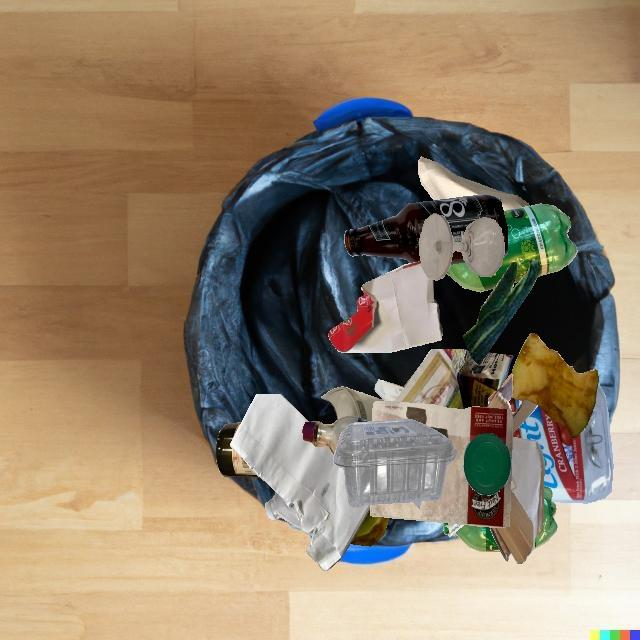biowaste: (512, 333, 599, 438), (463, 260, 541, 365), (350, 509, 389, 546)
cardboard: (489, 489, 534, 564), (487, 373, 512, 410)
glass: (344, 194, 508, 263), (419, 213, 505, 280), (302, 416, 372, 456), (216, 422, 260, 477), (321, 386, 385, 421)
paper: (230, 394, 370, 571), (370, 401, 513, 528), (329, 261, 443, 353), (374, 349, 518, 409), (418, 156, 530, 211), (511, 437, 544, 537)
plastic: (513, 384, 613, 503), (446, 203, 577, 292), (333, 419, 457, 509), (445, 491, 544, 526), (463, 433, 511, 496), (533, 488, 557, 550), (450, 525, 501, 552), (265, 492, 300, 528)
